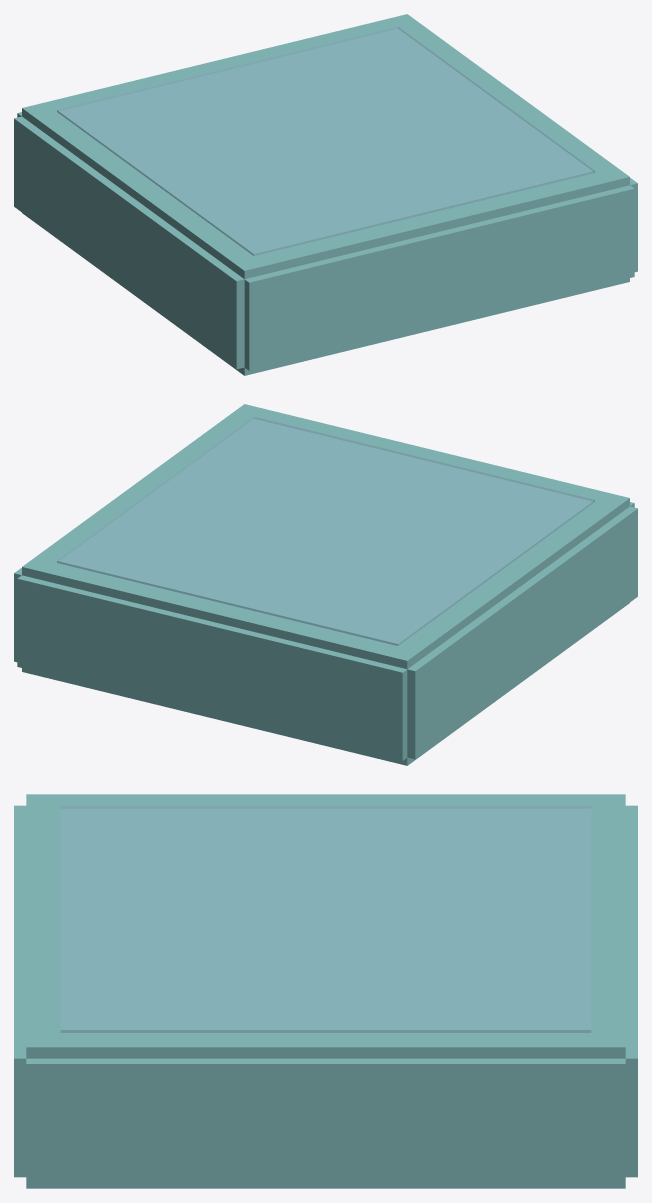
File: plunge_pool.glb
3 renders of one model, top to bottom at view 1: azimuth 30°, elevation 25°; view 2: azimuth 150°, elevation 25°; view 3: azimuth 270°, elevation 25°, orthographic. The views are drawn at different scales.
Visible parts, largest first — view 1: plunge_pool; view 2: plunge_pool; view 3: plunge_pool.
Part boxes in pixels (box(x1,y1,x2,y2)): plunge_pool: box(14, 14, 637, 375); plunge_pool: box(14, 404, 637, 765); plunge_pool: box(14, 794, 637, 1188).
Size of the model in its own units: 2 by 0.51 by 2.
